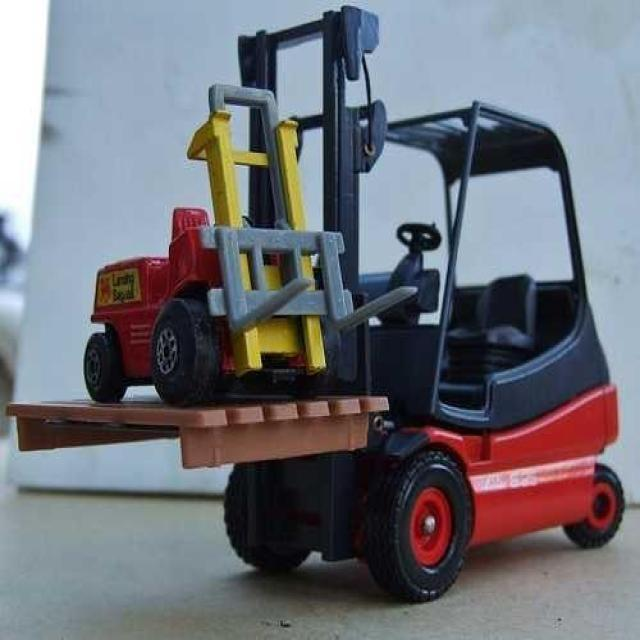forklift: (231, 2, 624, 603), (90, 85, 326, 404)
